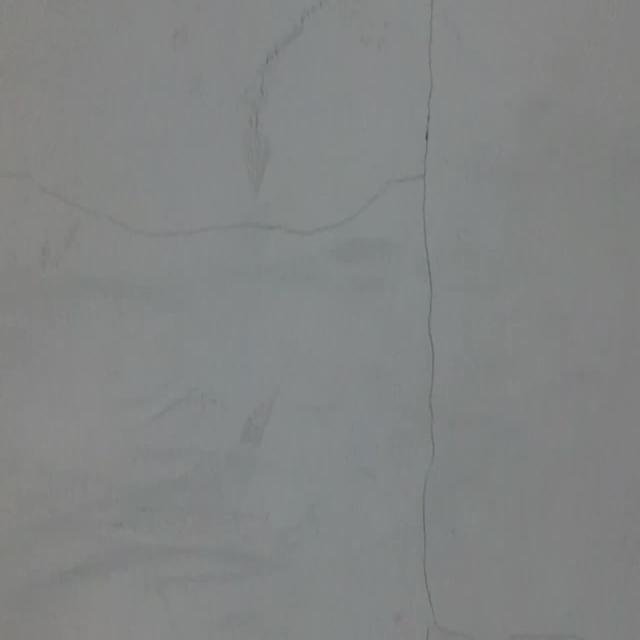Crack: (0, 151, 419, 253), (407, 0, 468, 637)
